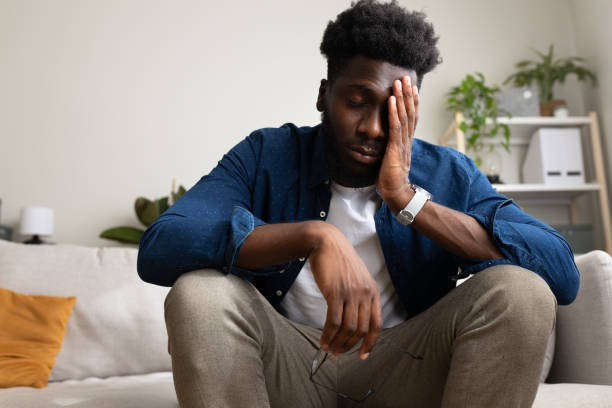Male: (146, 1, 575, 406)
